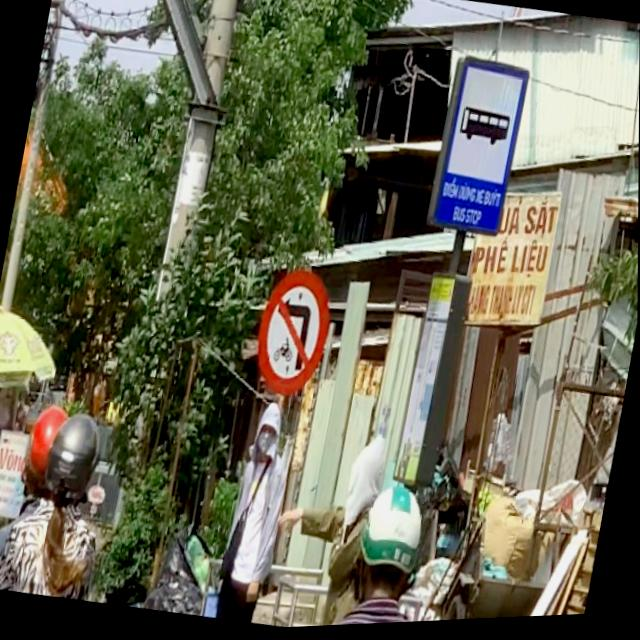Ben xe buyt: (430, 57, 530, 244)
